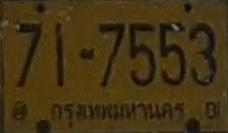1: (54, 22, 64, 86)
3: (188, 22, 216, 85)
5: (128, 22, 155, 86), (158, 22, 185, 85)
7: (16, 22, 42, 86), (98, 22, 123, 86)
BKK: (46, 95, 187, 126)
